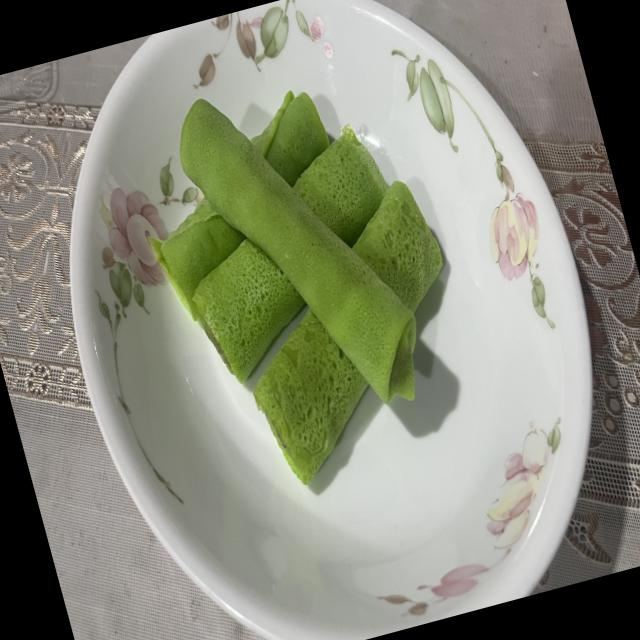Kuih-Ketayap: (179, 98, 415, 401), (253, 309, 368, 483), (192, 238, 304, 382), (352, 180, 442, 311), (294, 124, 388, 246), (149, 199, 244, 319), (253, 91, 329, 185)
nona-manis: (179, 98, 415, 403), (179, 98, 415, 401)
